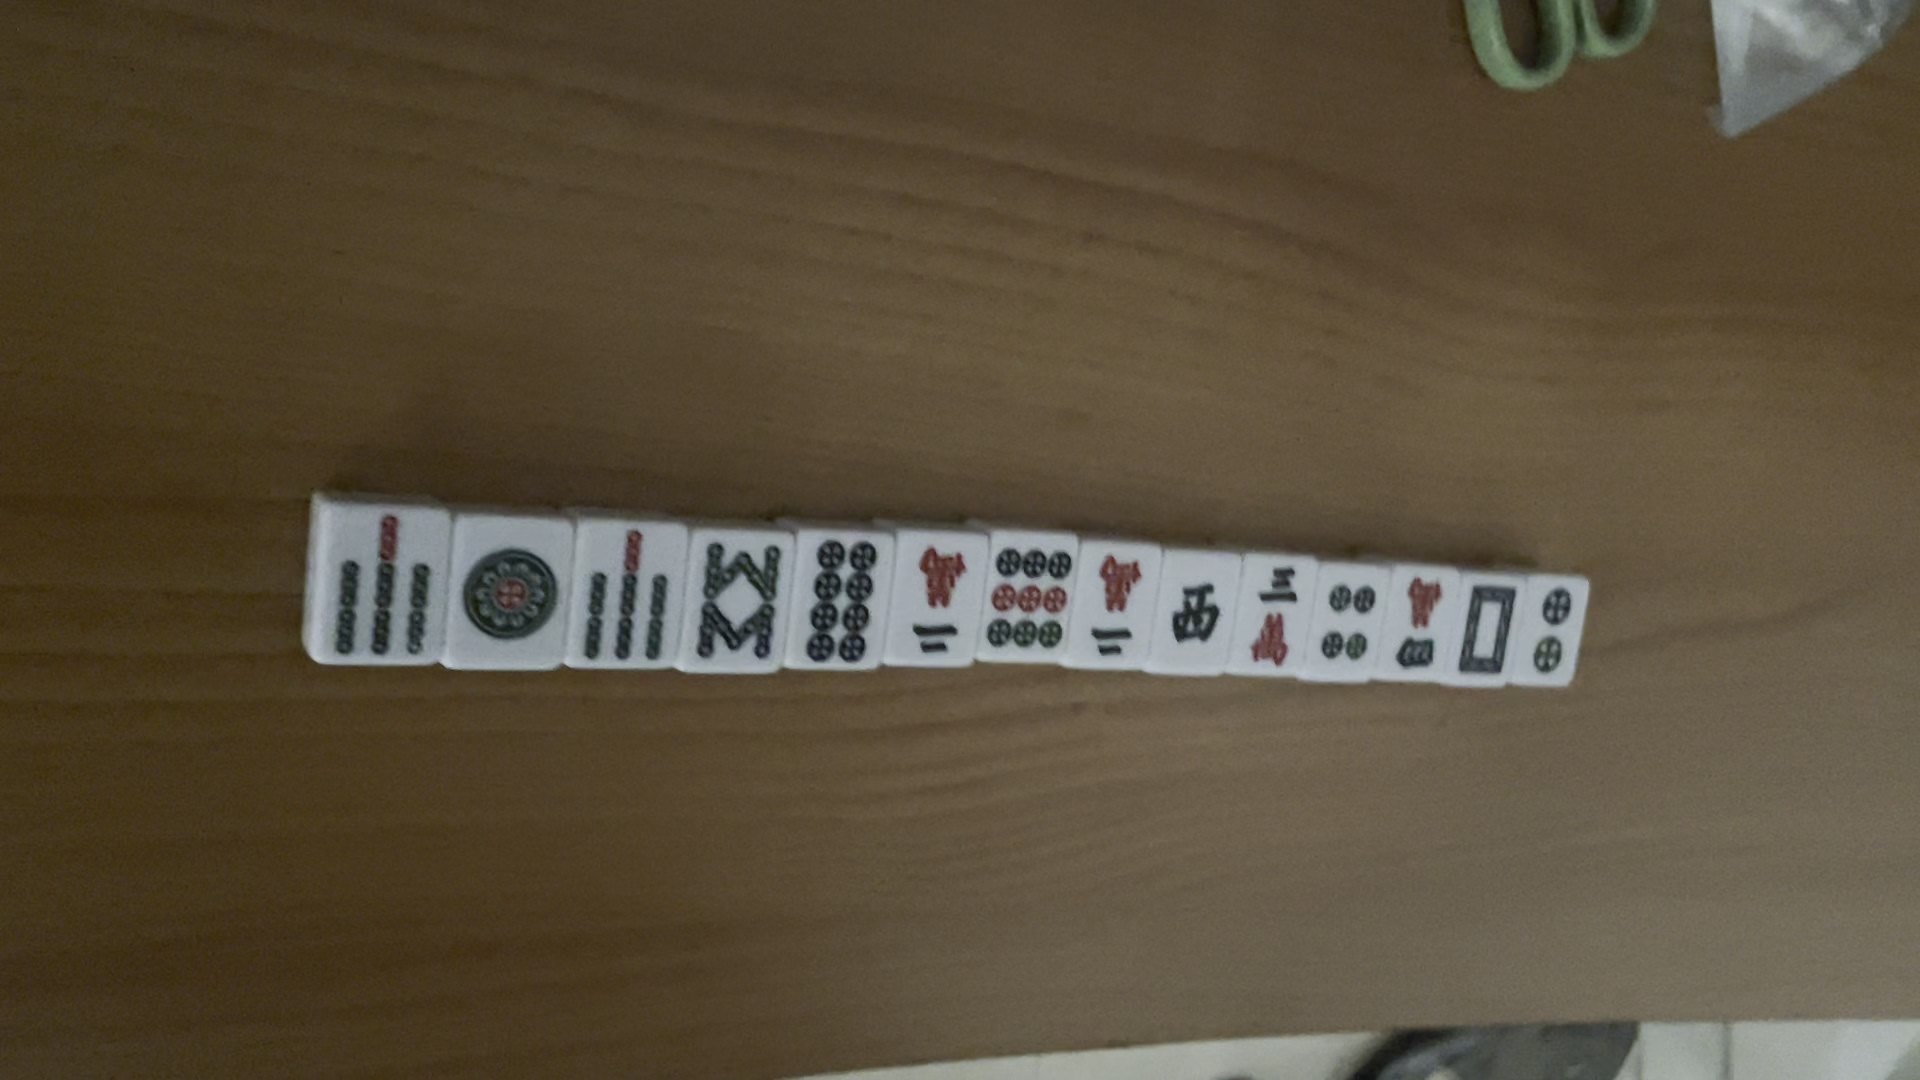b-7: (326, 514, 436, 659), (568, 527, 678, 673)
b-8: (687, 535, 785, 666)
c-2: (902, 541, 971, 665), (1080, 549, 1147, 662)
c-3: (1247, 562, 1303, 673)
c-4: (1391, 575, 1447, 675)
d-1: (458, 541, 562, 646)
d-2: (1531, 585, 1577, 679)
d-4: (1316, 579, 1377, 665)
d-8: (794, 535, 880, 673)
d-9: (984, 541, 1073, 655)
honors-west: (1162, 568, 1229, 653)
honors-white: (1455, 580, 1522, 682)
